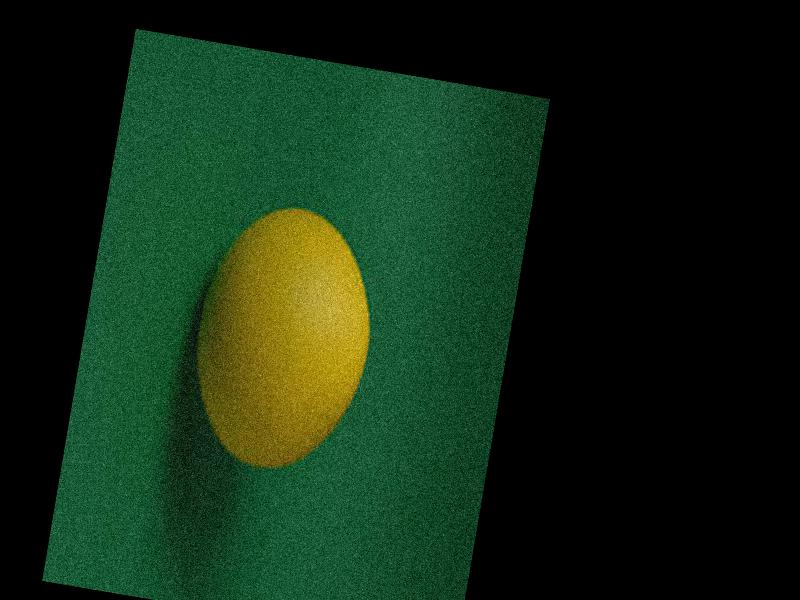Eggs: (177, 191, 391, 474)
